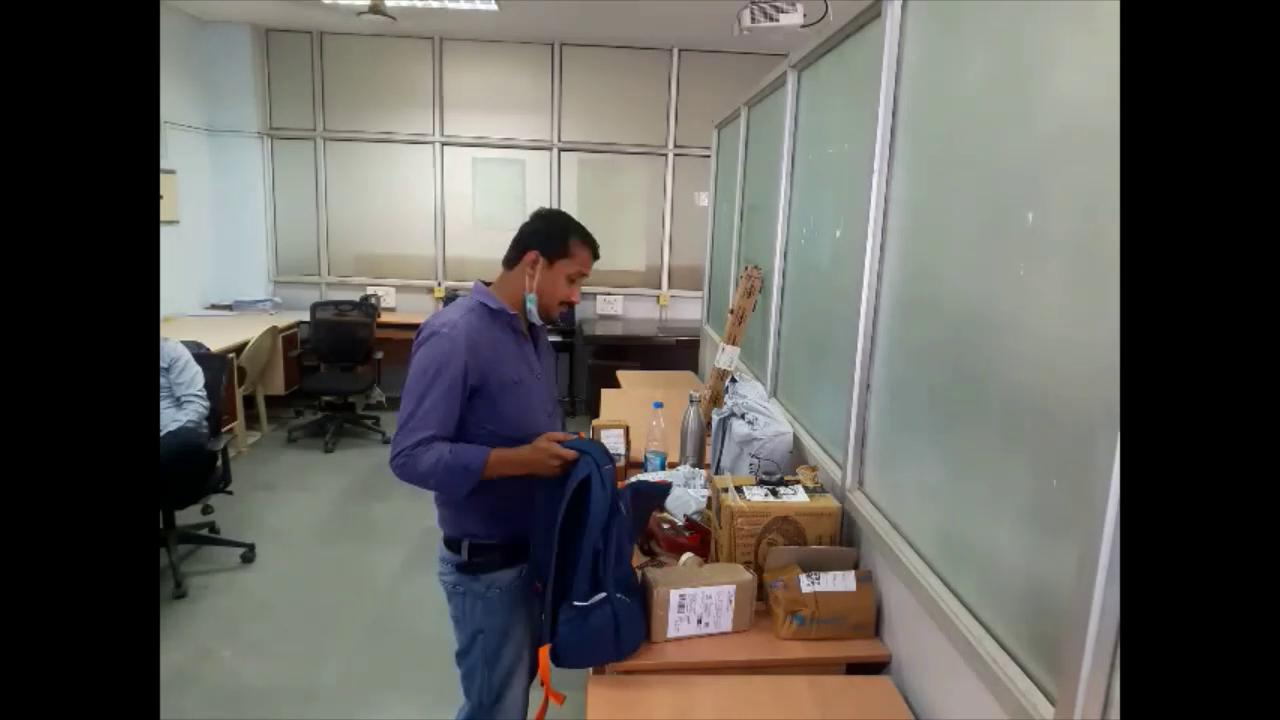shoplifting: (386, 190, 673, 720)
